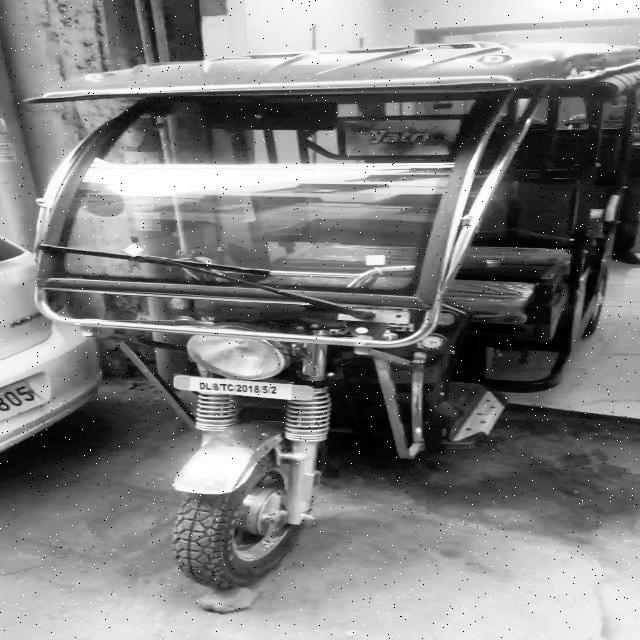Toto: (17, 35, 640, 592)
